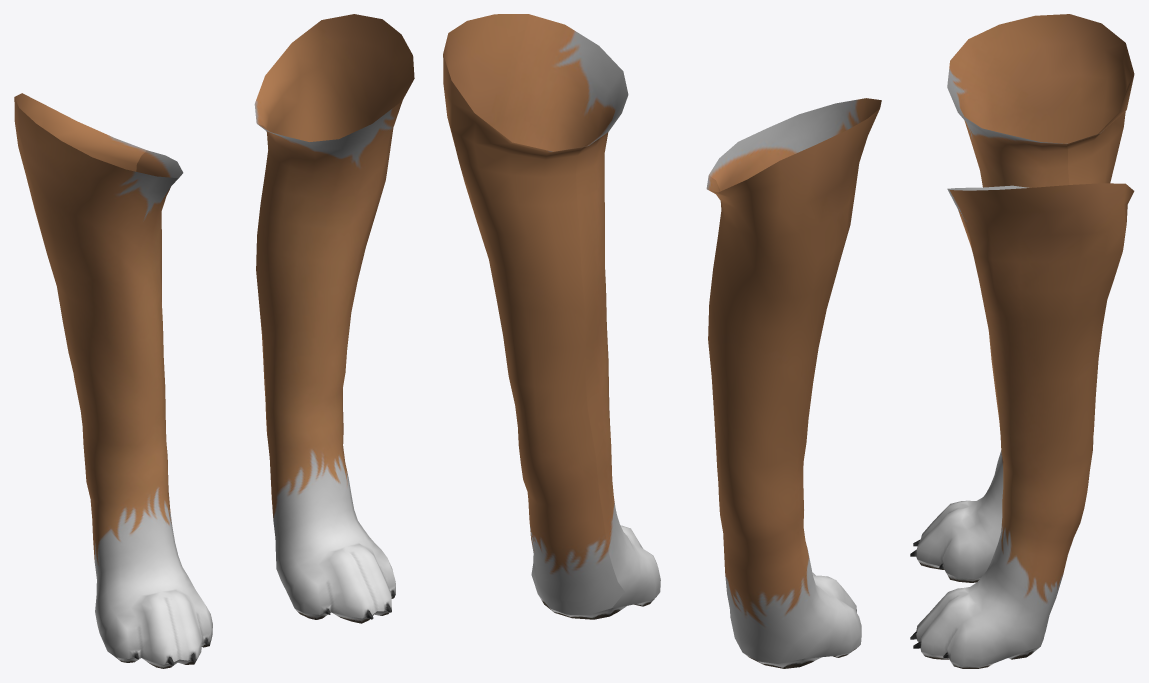
The model's file is dog paws.fbx.
3 renders of one model, left to right at view 1: azimuth 30°, elevation 25°; view 2: azimuth 150°, elevation 25°; view 3: azimuth 270°, elevation 25°, orthographic. The views are drawn at different scales.
Parts seen in each view (by area): view 1: polySurface2, polySurface4; view 2: polySurface2, polySurface4; view 3: polySurface2, polySurface4.
Boxes of the visible parts, x1,y1,x2,y2 form: polySurface2: (254,14,414,623); polySurface4: (14,93,212,668); polySurface2: (443,14,660,619); polySurface4: (706,98,881,668); polySurface2: (910,183,1134,668); polySurface4: (910,14,1134,582).
Bounding box in the file's own units: 16.39 × 22.57 × 9.03.
1 material, 1 textured.
